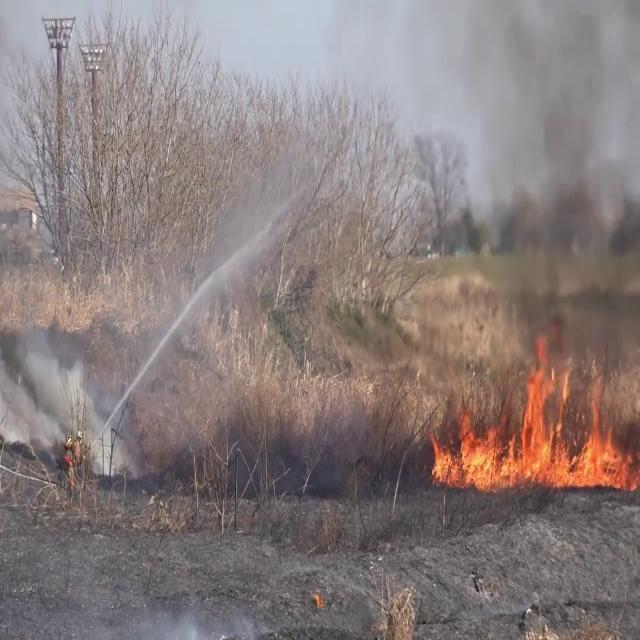Fire: (430, 335, 640, 493)
Smoke: (474, 1, 640, 390), (132, 156, 304, 444), (0, 322, 110, 464)
